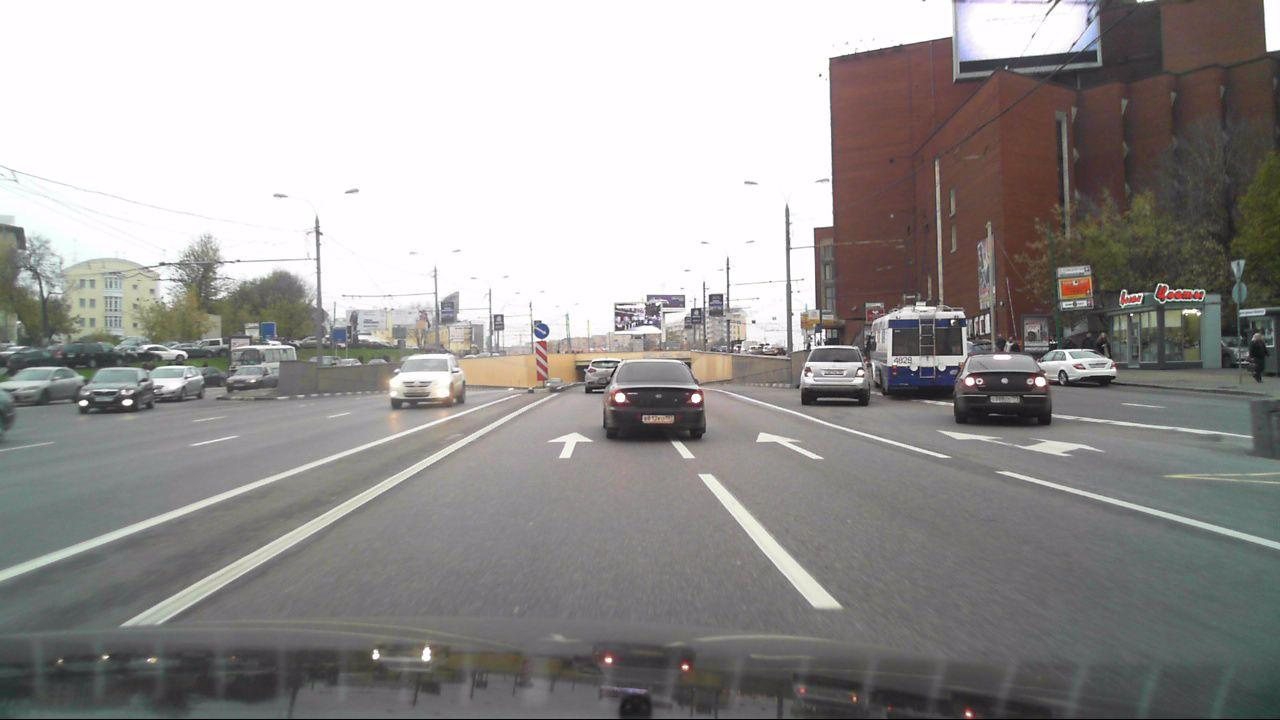road_sign: (535, 340, 548, 381), (534, 322, 549, 339)
